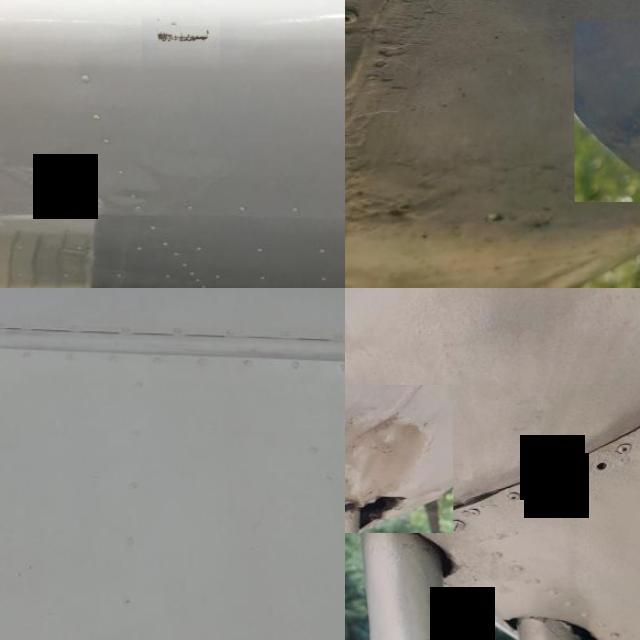Crack: (142, 13, 220, 74)
Dent: (345, 384, 452, 533), (572, 19, 640, 202)
